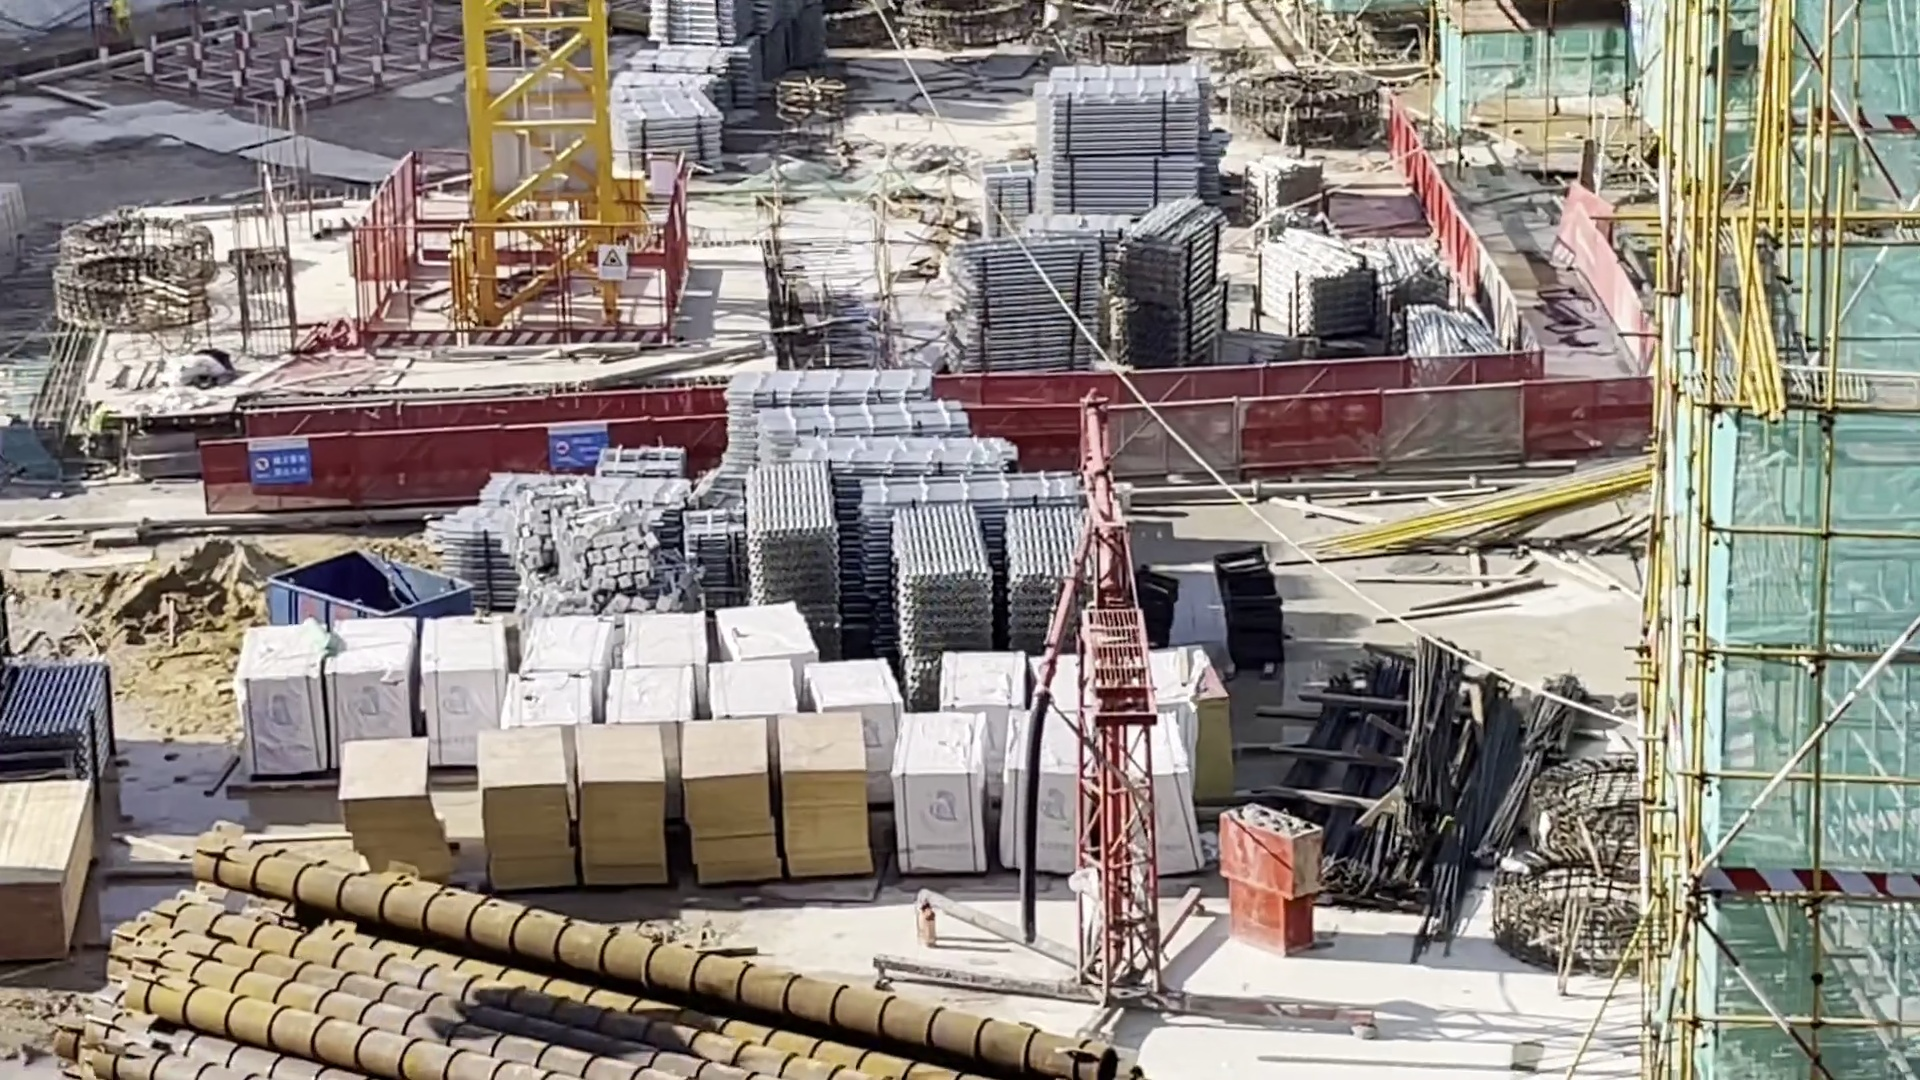board: (336, 749, 455, 893), (579, 738, 684, 895), (787, 725, 880, 901), (695, 737, 785, 907), (485, 745, 575, 905), (1, 779, 80, 957)
fence: (1015, 385, 1656, 465), (203, 421, 732, 504), (1083, 344, 1548, 405), (255, 386, 727, 413)
hopper: (268, 553, 477, 645)
rebar: (1493, 680, 1589, 837), (1445, 715, 1522, 886), (1327, 658, 1383, 881), (1255, 684, 1352, 808), (1404, 650, 1441, 836)
scaffold: (7, 663, 109, 786), (903, 537, 1001, 644), (969, 301, 1116, 368), (1040, 152, 1213, 208), (804, 435, 1013, 481), (1121, 204, 1216, 305), (1011, 509, 1098, 616), (740, 465, 829, 568), (934, 245, 1093, 295), (1267, 229, 1365, 311), (1044, 80, 1199, 131), (1112, 297, 1204, 380), (748, 373, 992, 404), (862, 487, 1093, 516), (756, 397, 955, 429), (617, 113, 716, 173), (647, 4, 761, 53), (458, 524, 520, 607), (691, 525, 760, 587), (632, 47, 746, 80), (611, 69, 703, 95)
slogan: (545, 423, 607, 472), (247, 444, 309, 487), (603, 248, 629, 278)
